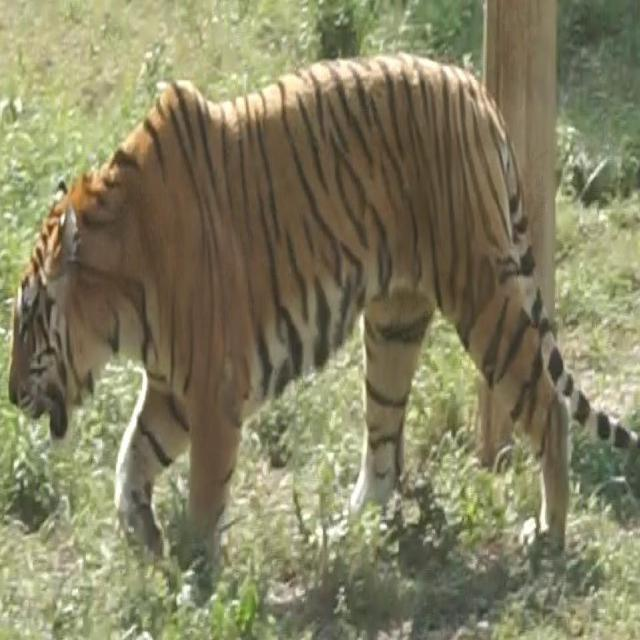TIGER: (9, 58, 628, 596)
